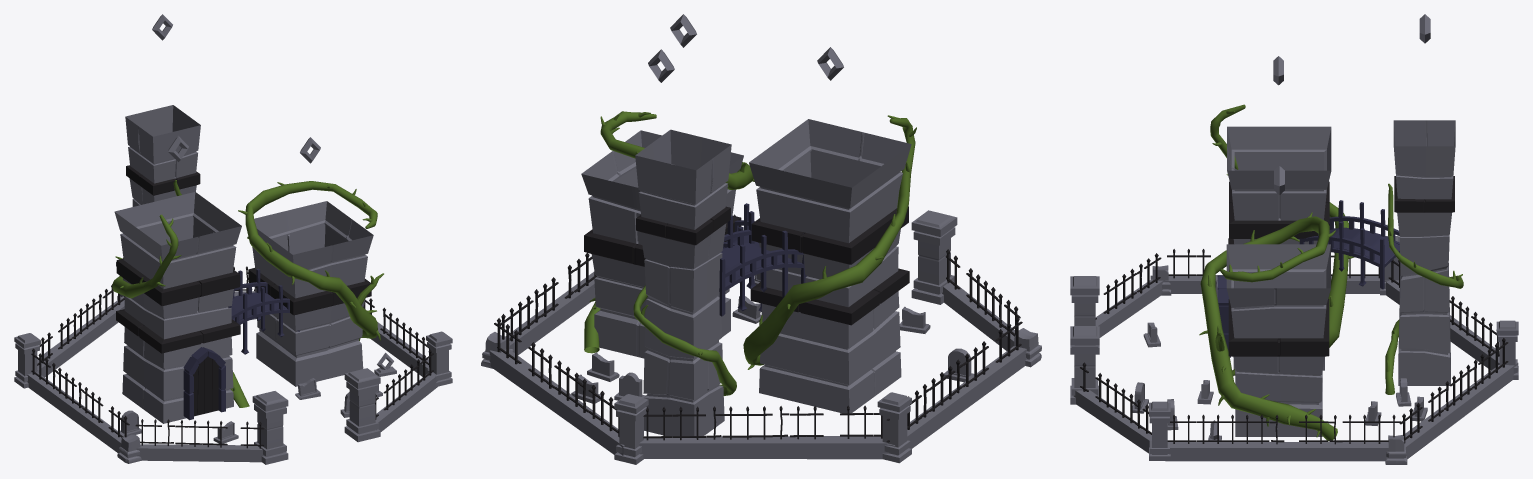
File: Building_usagi_20251024.fbx
3 renders of one model, left to right at view 1: azimuth 30°, elevation 25°; view 2: azimuth 150°, elevation 25°; view 3: azimuth 270°, elevation 25°, orthographic. The views are drawn at different scales.
Visible parts, largest first — view 1: siro_kabe_08; view 2: siro_kabe_08; view 3: siro_kabe_08.
Boxes of the visible parts, x1,y1,x2,y2 form: siro_kabe_08: (14,14,452,464); siro_kabe_08: (481,14,1041,464); siro_kabe_08: (1070,14,1518,464).
Size of the model in its own units: 1150 by 1101 by 1227.
Materials: 1 (1 with a texture image).
